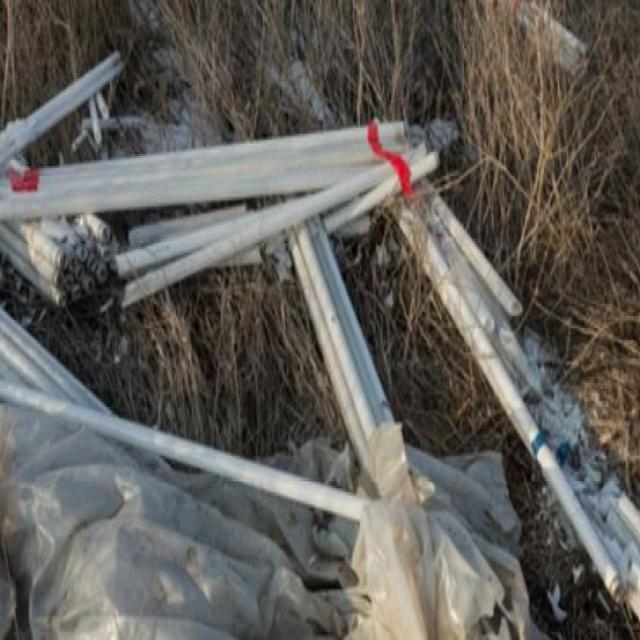electronic: (469, 0, 589, 79), (19, 210, 114, 306)
